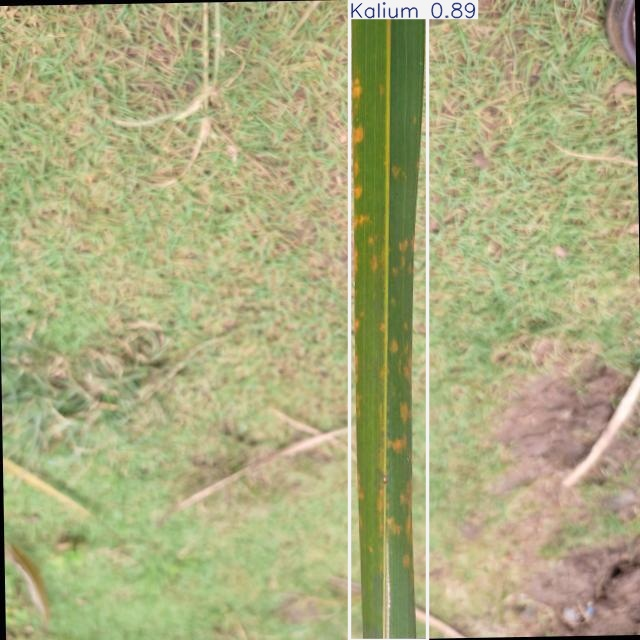Kalium: (349, 0, 428, 640)
